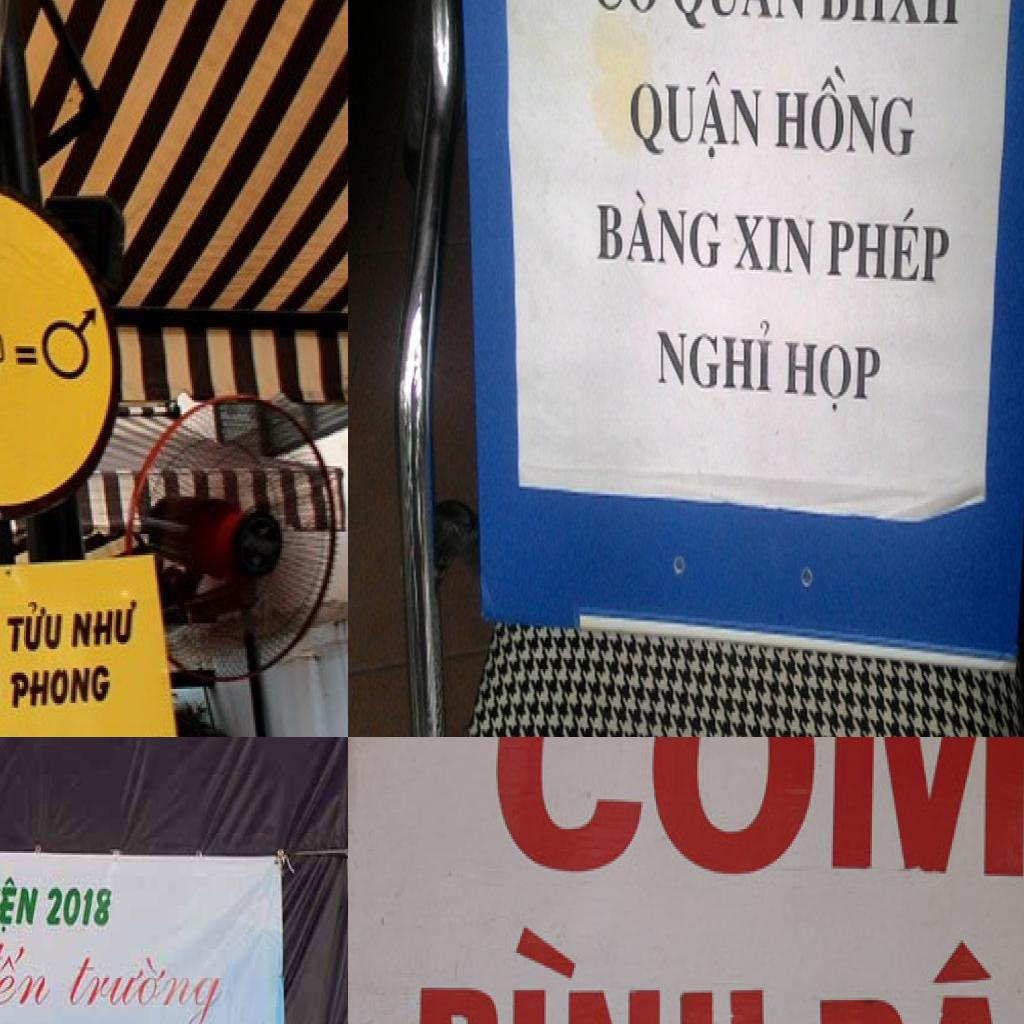text: (481, 737, 1024, 898), (408, 925, 769, 1024), (773, 62, 919, 162), (629, 64, 765, 170), (822, 195, 952, 288), (62, 952, 226, 1024), (594, 184, 722, 276), (654, 316, 776, 398), (732, 208, 818, 281), (665, 0, 810, 36), (10, 663, 112, 710), (814, 0, 967, 29), (0, 936, 57, 1006), (71, 600, 139, 651), (8, 600, 65, 654), (44, 886, 115, 929), (0, 874, 43, 934), (590, 0, 661, 20), (14, 344, 40, 370)
